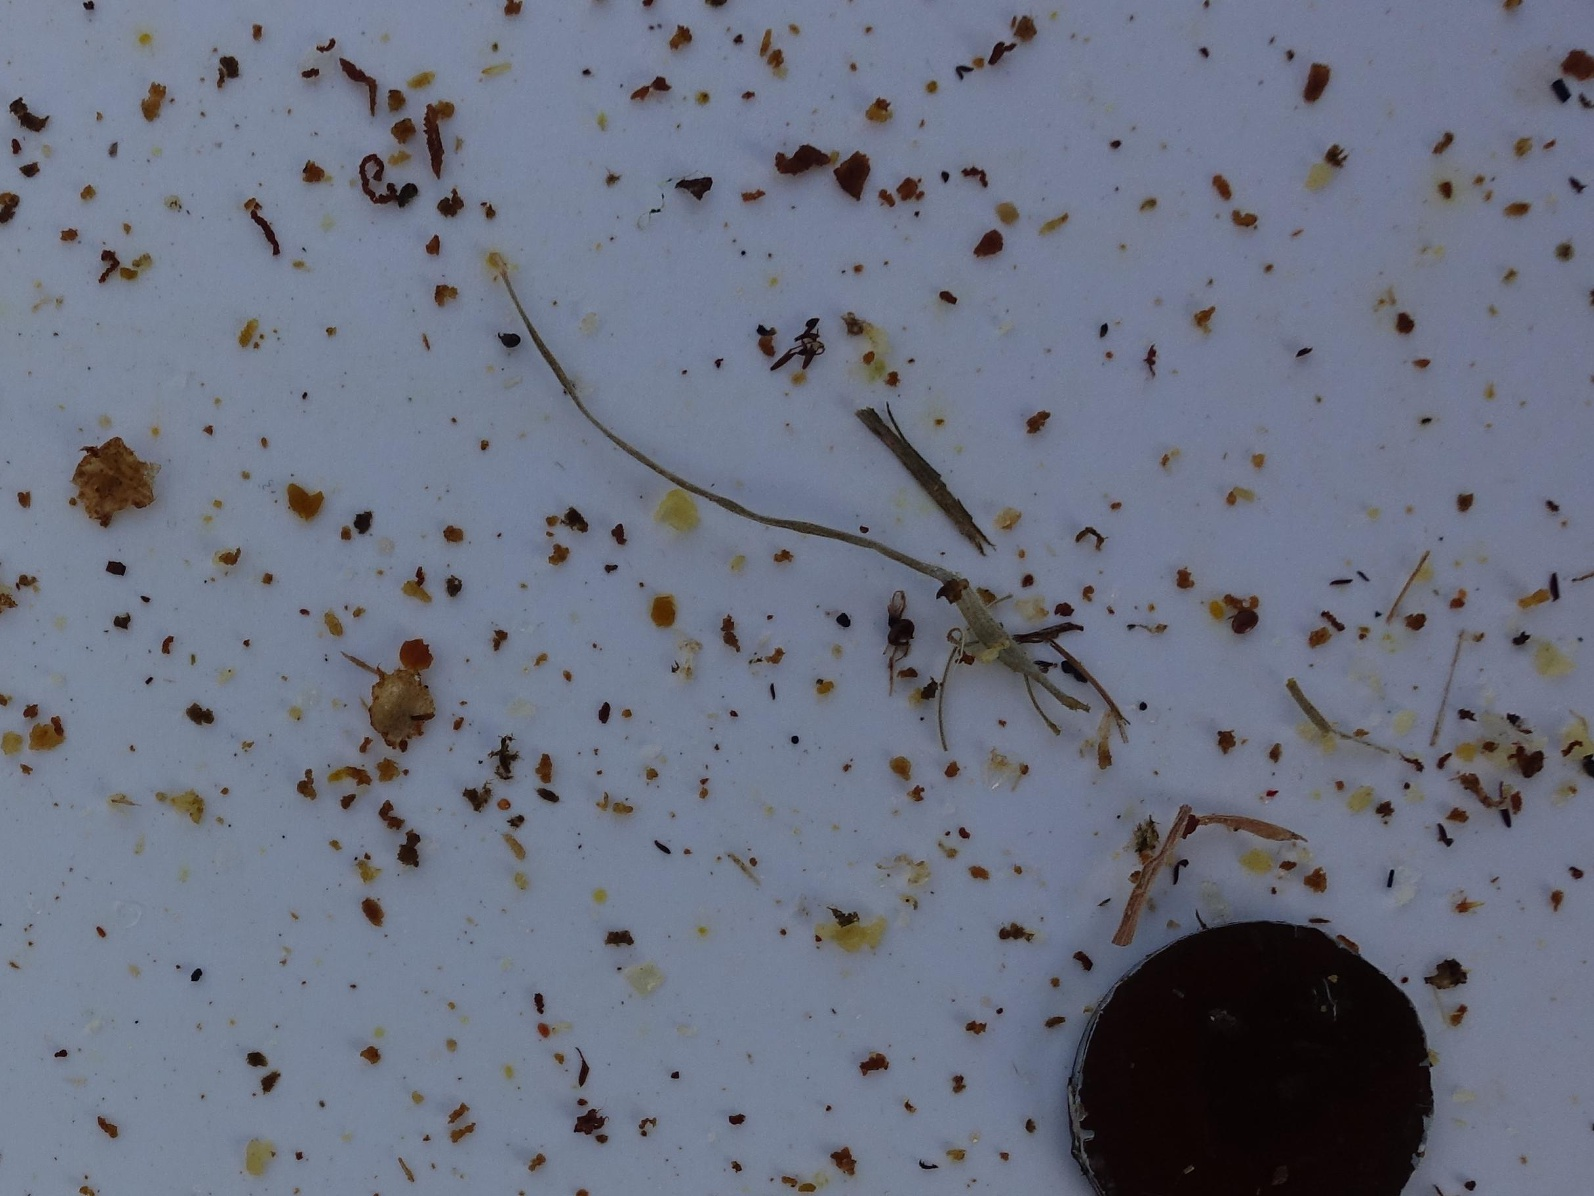Varroa: (1225, 601, 1262, 639), (883, 613, 919, 651), (1514, 746, 1550, 783)
